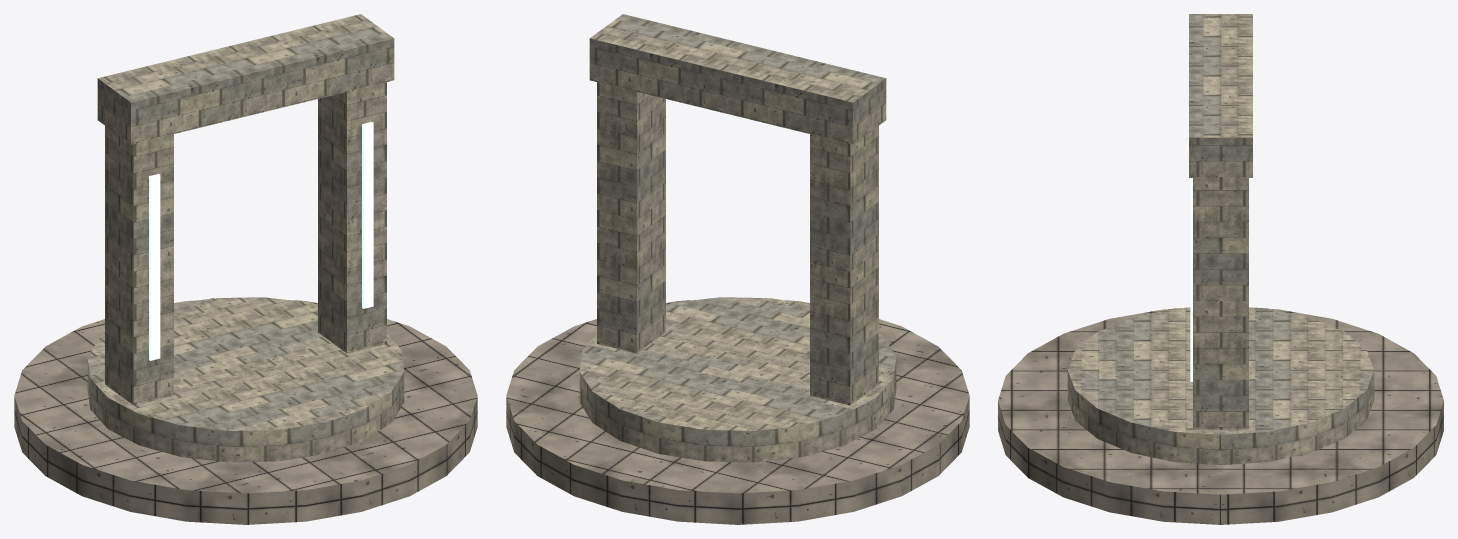
Rendered from shrine.glb.
3 views of the same model, side by side, from view 1: azimuth 30°, elevation 25°; view 2: azimuth 150°, elevation 25°; view 3: azimuth 270°, elevation 25° (orthographic). The views are drawn at different scales.
Parts seen in each view (by area): view 1: shrine; view 2: shrine; view 3: shrine.
Part boxes in pixels (box(x1,y1,x2,y2)): shrine: box(14, 14, 477, 524); shrine: box(506, 14, 969, 524); shrine: box(998, 14, 1443, 524).
Size of the model in its own units: 3.2 by 2.81 by 3.2.
3 materials, 2 textured.
